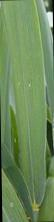Potato: (5, 11, 45, 191)
